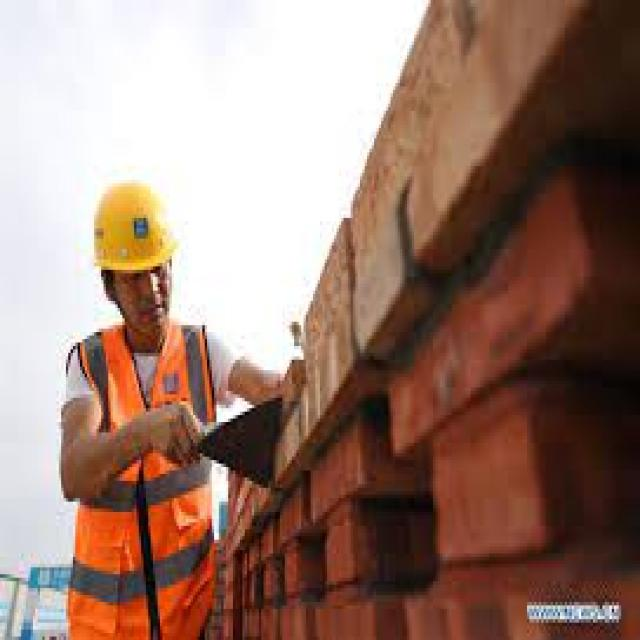Reflective-Jacket: (61, 315, 224, 636)
Safety-Helmet: (75, 166, 193, 287)
